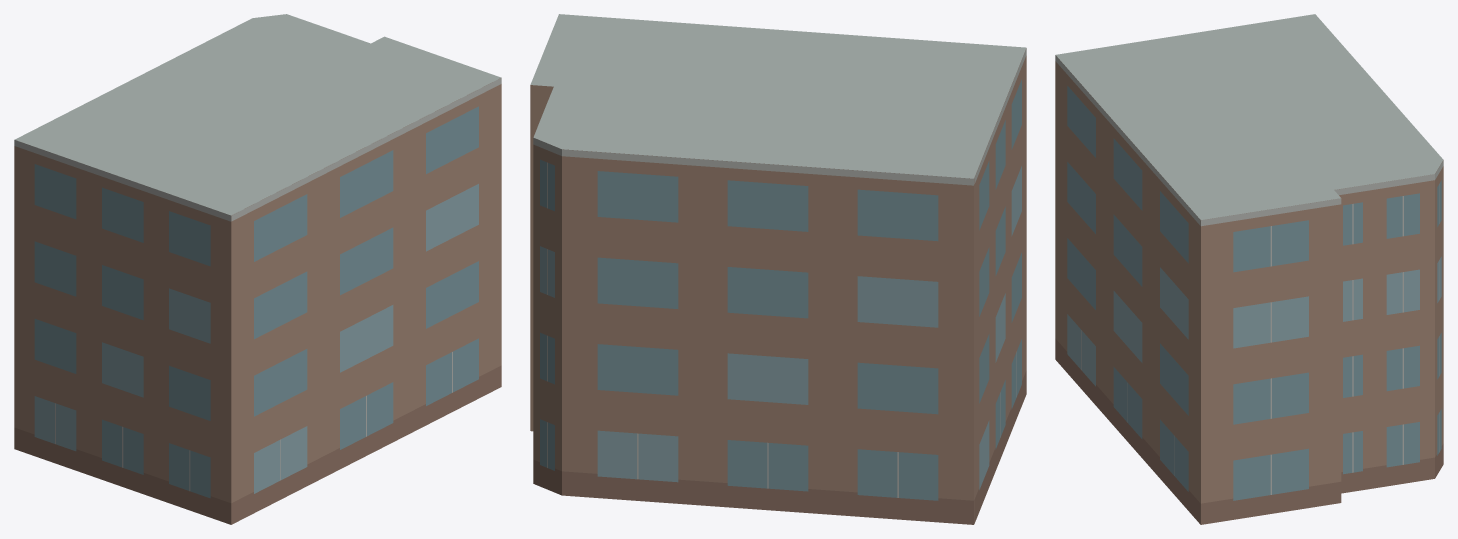
The model's file is residential-f5a24e28-baeb-4373-b769-7f5213201abd.glb.
The picture shows the model from 3 angles, left to right: view 1: azimuth 30°, elevation 25°; view 2: azimuth 150°, elevation 25°; view 3: azimuth 270°, elevation 25°; orthographic projection. The views are drawn at different scales.
Visible parts, largest first — view 1: residential-f5a24e28-baeb-4373-b769-7f5213201abd.tmp; view 2: residential-f5a24e28-baeb-4373-b769-7f5213201abd.tmp; view 3: residential-f5a24e28-baeb-4373-b769-7f5213201abd.tmp.
Boxes of the visible parts, x1,y1,x2,y2 form: residential-f5a24e28-baeb-4373-b769-7f5213201abd.tmp: [14, 14, 501, 524]; residential-f5a24e28-baeb-4373-b769-7f5213201abd.tmp: [530, 14, 1026, 524]; residential-f5a24e28-baeb-4373-b769-7f5213201abd.tmp: [1055, 14, 1443, 524].
Size of the model in its own units: 17.72 by 12.2 by 14.09.
